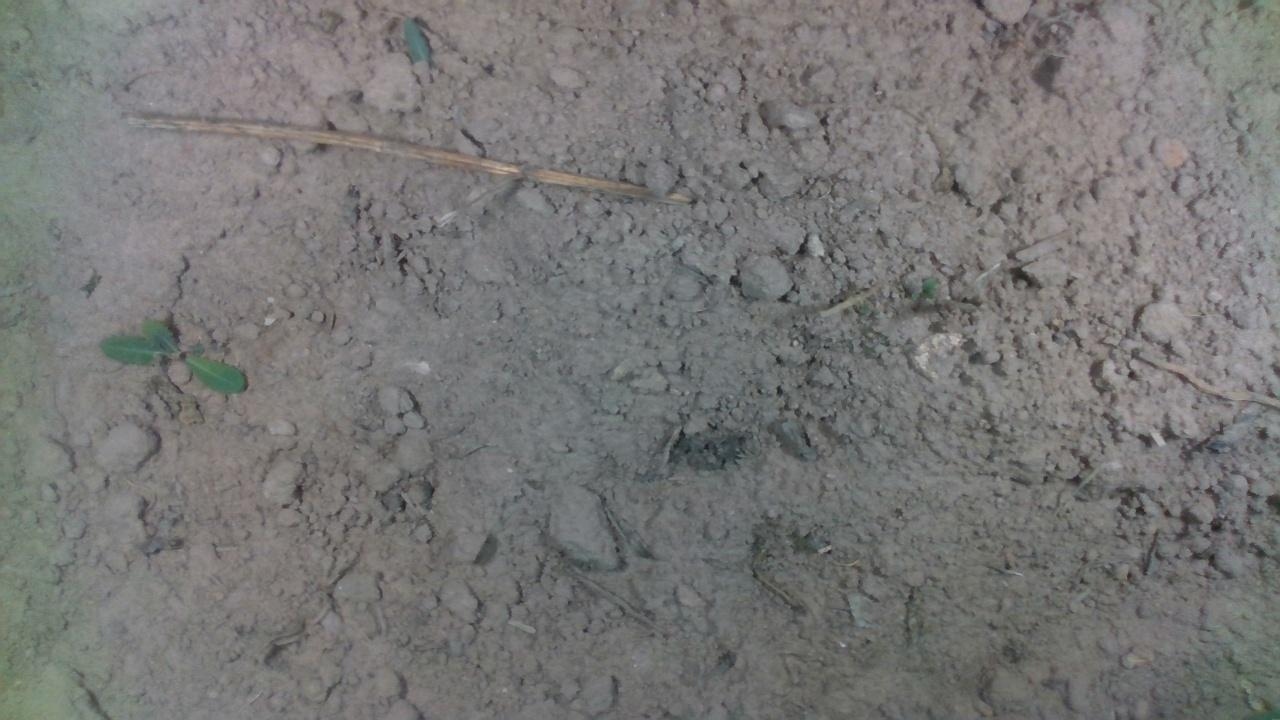weed: (95, 315, 246, 394)
